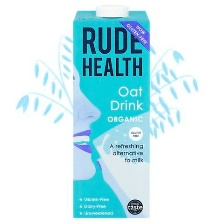carton: (66, 4, 159, 220)
